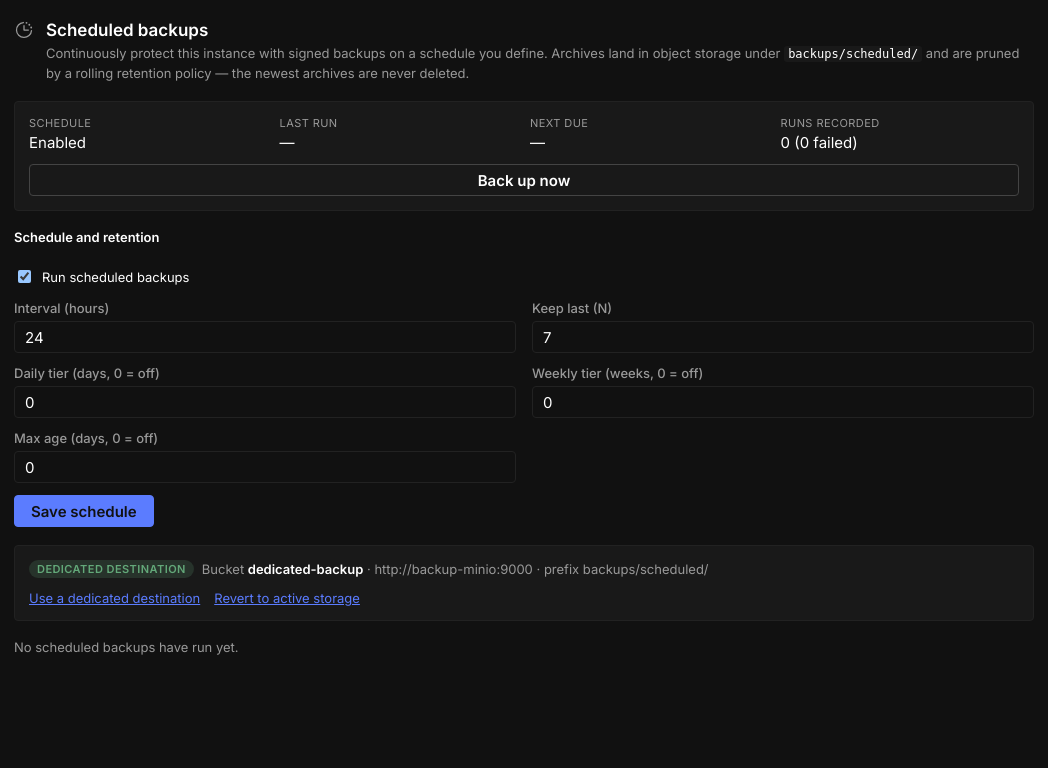
it: ScheduledBackupsPanel › clears a dedicated destination override
The image size is (1048, 768).
Expected: the text "Dedicated destination" is shown, [29, 560, 194, 578]
Click the button "Revert to active storage".
click(287, 598)  # box [214, 590, 360, 606]
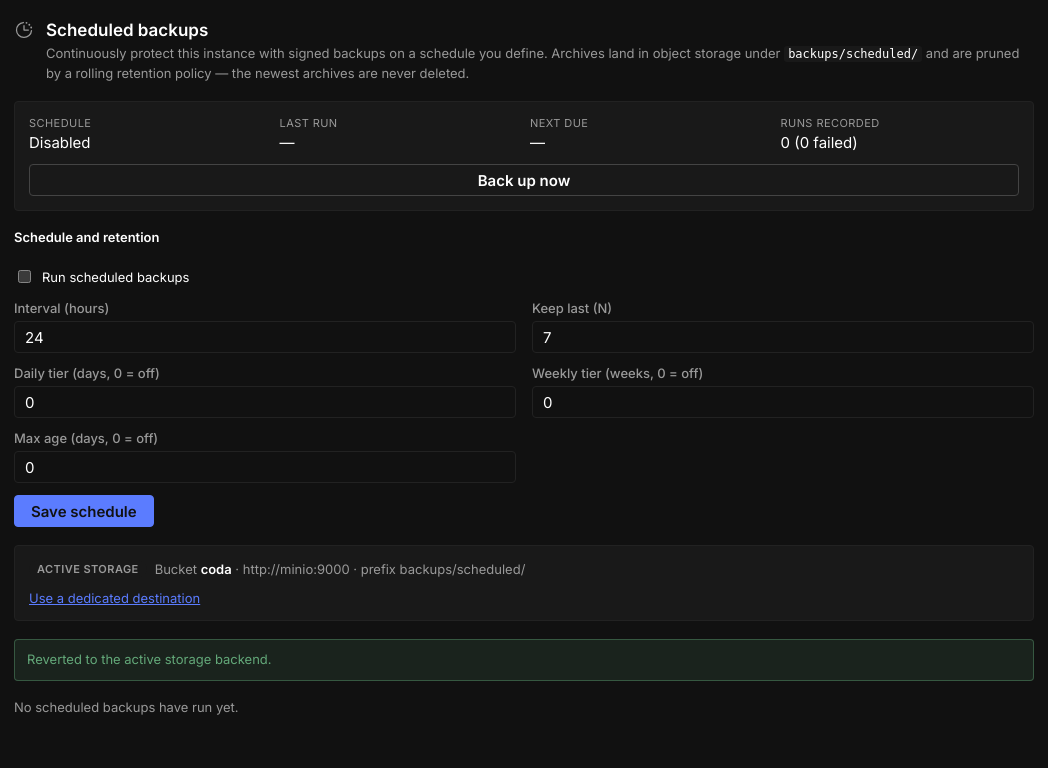
Expected: the text "Reverted to the active storage backend." is shown, [14, 639, 1034, 680]
